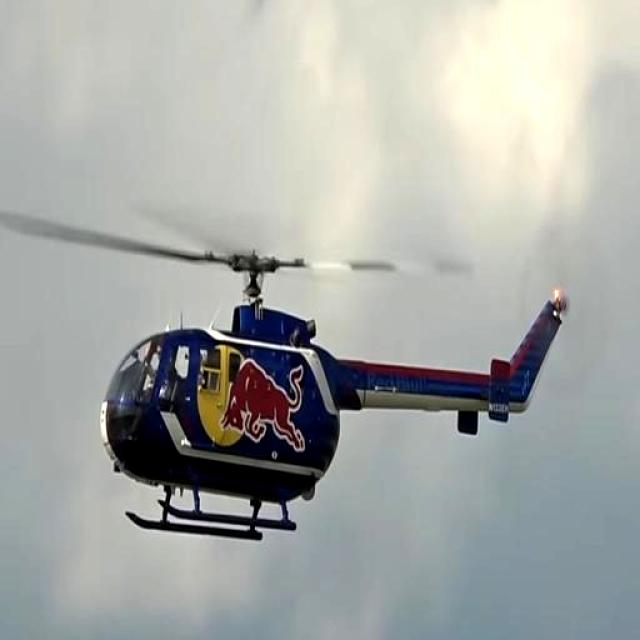drone: (69, 175, 589, 561)
